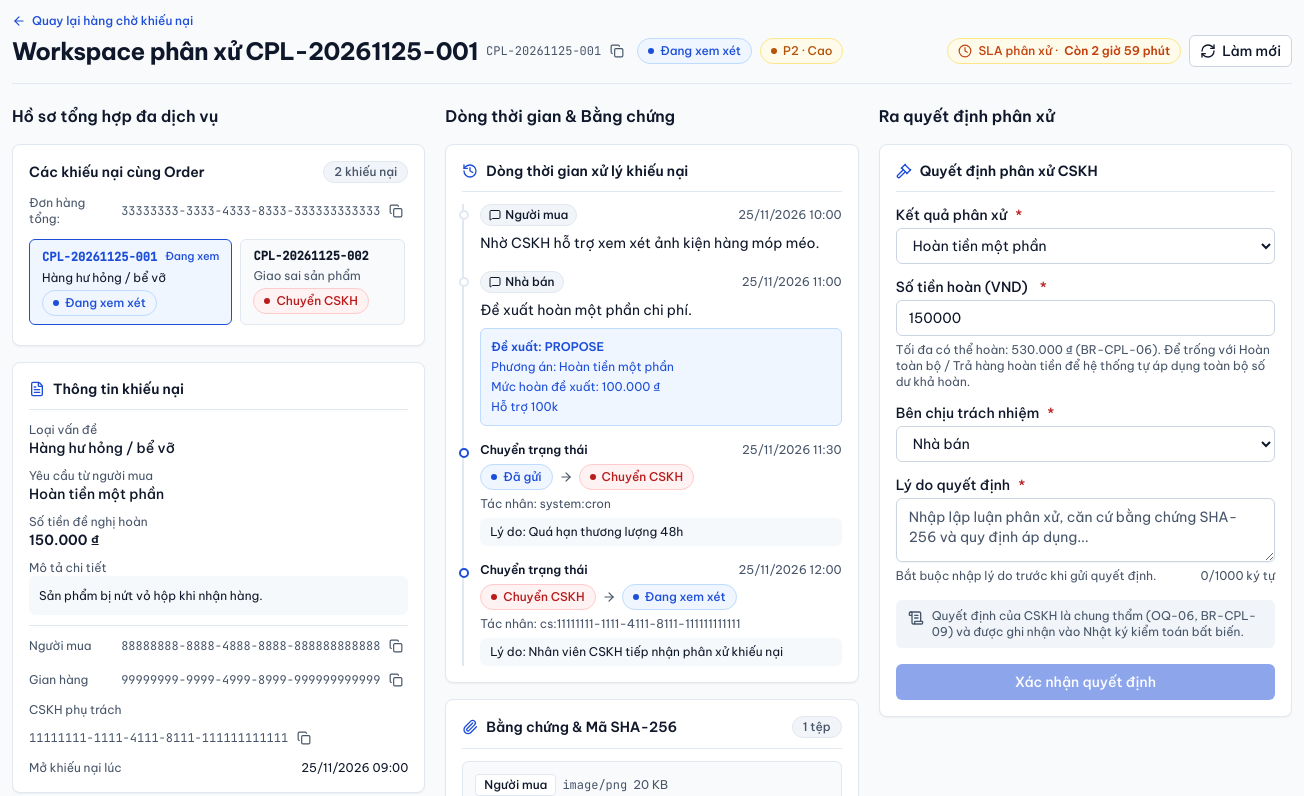
Test case: T4-12: 3-Column Arbitration Workspace (/admin/complaints/:id) › renders 3 columns, cross-service dossier, and sibling orderId tabs
Check: the element "Ra quyết định phân xử" is shown, box x1=879 y1=104 x2=1292 y2=717
Click the tab "CPL-20261125-002 Giao sai sản phẩm Chuyển CSKH".
click(323, 282)  # box x1=240 y1=239 x2=406 y2=325
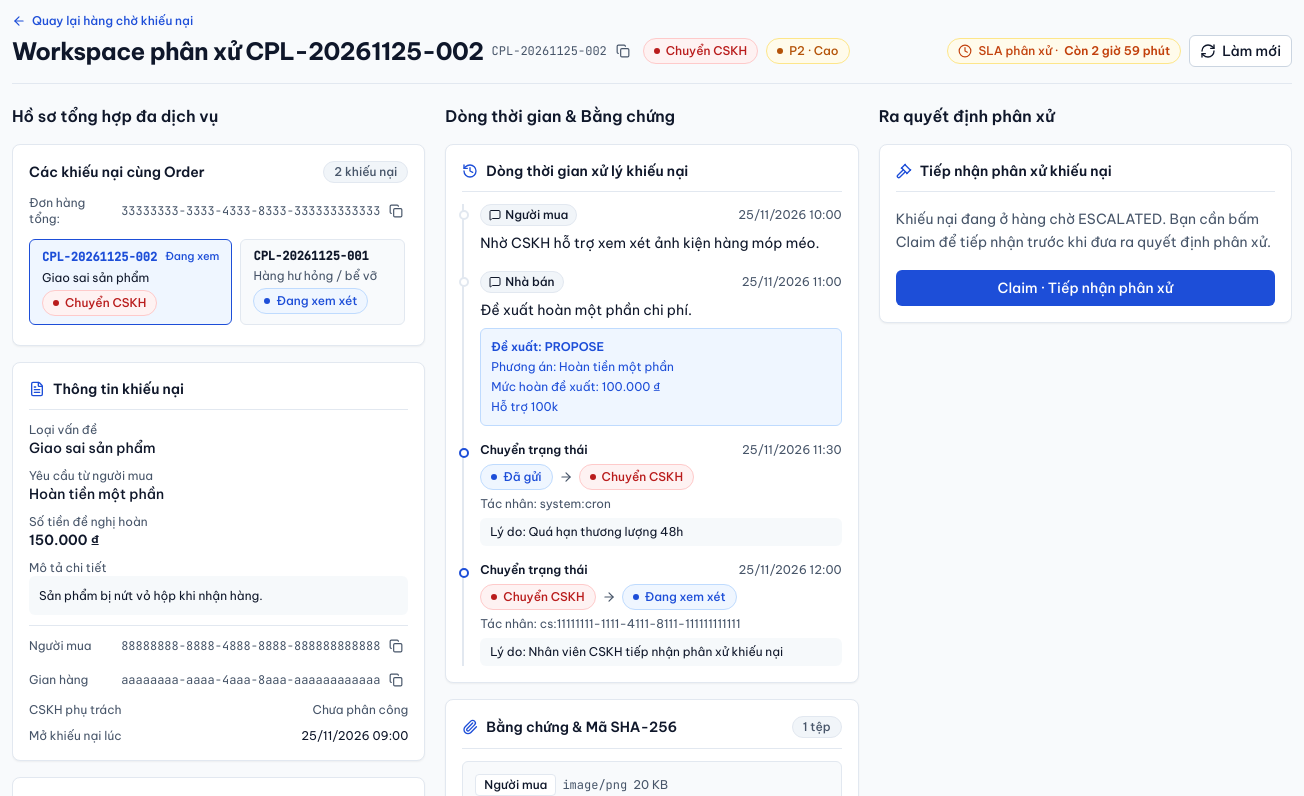
Check: the heading "Workspace phân xử CPL-20261125-002" is shown, box x1=12 y1=35 x2=484 y2=67
Check: the button "Claim · Tiếp nhận phân xử" is shown, box x1=896 y1=270 x2=1275 y2=306
